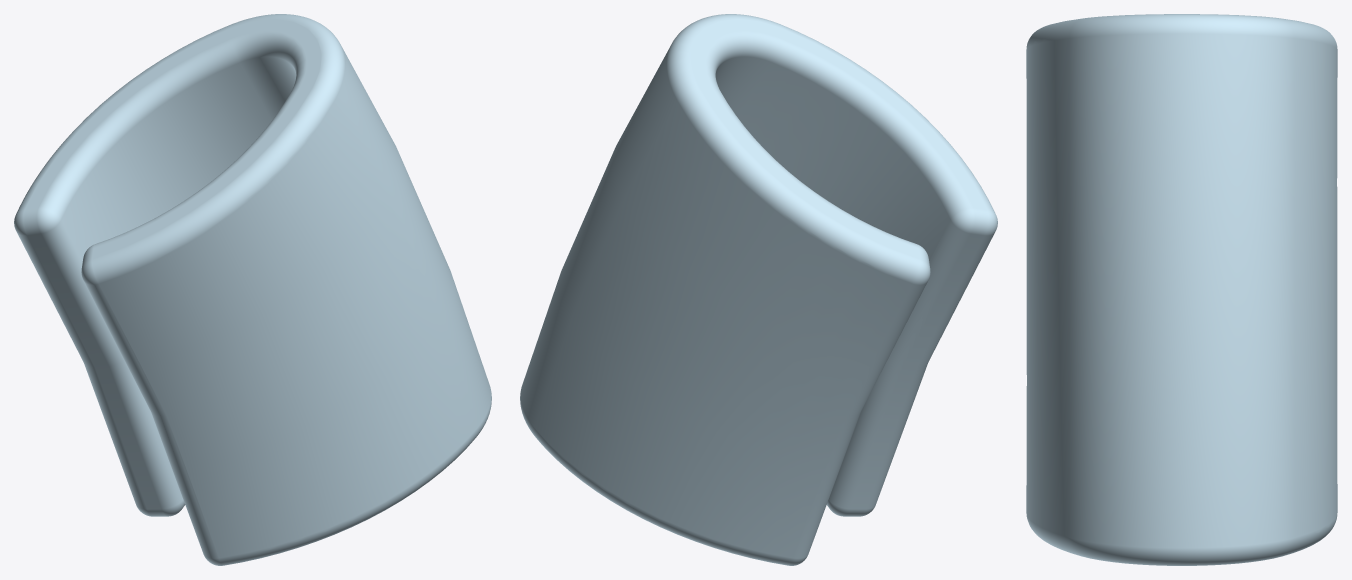
Rendered from _60355K291_Steel_Ball_Bearing.gltf.
3 renders of one model, left to right at view 1: azimuth 30°, elevation 25°; view 2: azimuth 150°, elevation 25°; view 3: azimuth 270°, elevation 25°, orthographic. The views are drawn at different scales.
Visible parts, largest first — view 1: mesh55824, mesh55828, mesh55821, mesh55822, mesh55830, mesh55827, mesh55819, mesh55814, mesh55825, mesh55810, mesh55823, mesh55818 (+4 smaller); view 2: mesh55812, mesh55842, mesh55821, mesh55817, mesh55830, mesh55836, mesh55841, mesh55840, mesh55810, mesh55825, mesh55808, mesh55818 (+4 smaller); view 3: mesh55821, mesh55812, mesh55824, mesh55818, mesh55811, mesh55817, mesh55822, mesh55808, mesh55823.
Boxes of the visible parts, <box> form: mesh55824: <box>99,101,477,557</box>; mesh55828: <box>61,62,271,260</box>; mesh55821: <box>334,47,491,427</box>; mesh55822: <box>92,88,334,283</box>; mesh55830: <box>25,19,320,259</box>; mesh55827: <box>38,39,239,219</box>; mesh55819: <box>41,220,183,508</box>; mesh55814: <box>28,234,161,508</box>; mesh55825: <box>84,282,218,558</box>; mesh55810: <box>17,233,146,508</box>; mesh55823: <box>219,428,478,565</box>; mesh55818: <box>230,14,345,100</box>; mesh55812: <box>534,101,912,557</box>; mesh55842: <box>740,62,950,260</box>; mesh55821: <box>520,48,677,427</box>; mesh55817: <box>677,88,919,283</box>; mesh55830: <box>691,19,986,259</box>; mesh55836: <box>772,39,973,219</box>; mesh55841: <box>828,220,970,508</box>; mesh55840: <box>850,234,983,508</box>; mesh55810: <box>793,282,927,558</box>; mesh55825: <box>865,233,994,508</box>; mesh55808: <box>533,428,792,565</box>; mesh55818: <box>666,14,781,100</box>; mesh55821: <box>1069,33,1294,547</box>; mesh55812: <box>1294,38,1337,537</box>; mesh55824: <box>1026,38,1069,537</box>; mesh55818: <box>1069,14,1294,38</box>; mesh55811: <box>1069,538,1294,565</box>; mesh55817: <box>1282,18,1337,49</box>; mesh55822: <box>1026,18,1081,49</box>; mesh55808: <box>1284,512,1337,555</box>; mesh55823: <box>1026,513,1079,555</box>.
Bounding box in the file's own units: 0.0027 × 0.00292 × 0.00147.
